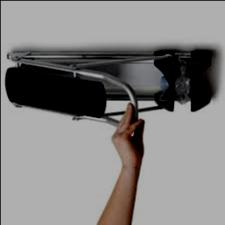Plastic: (169, 56, 193, 110)
